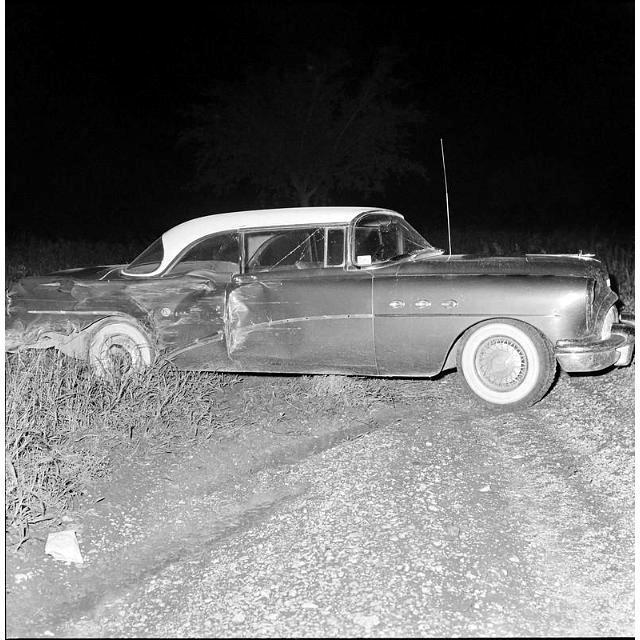doorouter-dent: (256, 237, 391, 378)
quaterpanel-dent: (6, 267, 243, 352)
